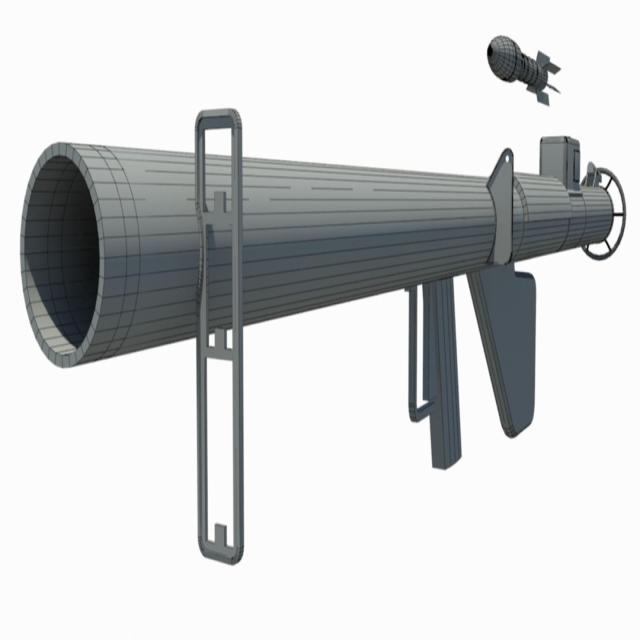weapon: (14, 111, 640, 580), (478, 28, 564, 116)
